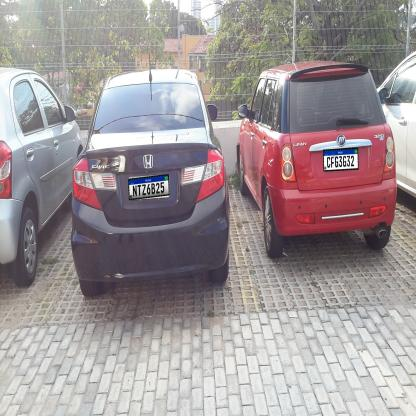PlacaM: (128, 174, 170, 200), (323, 148, 359, 172)
